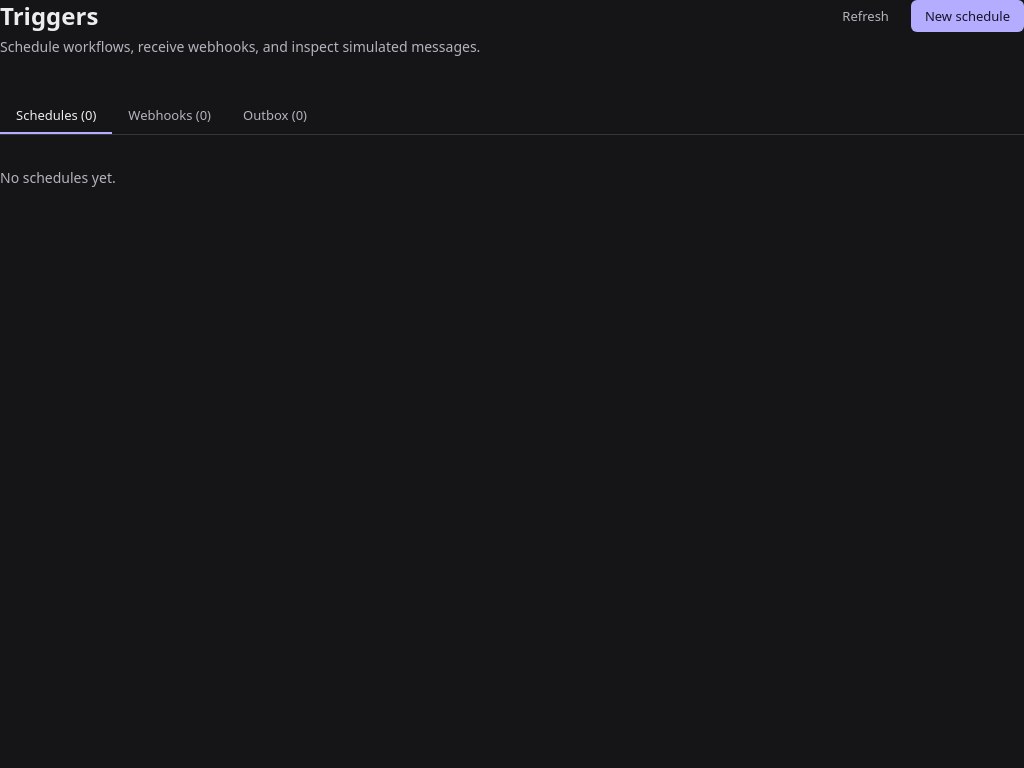
it: B39: workflow picker in the trigger forms › a workspace without workflows says so and cannot submit either form
Click the button with test id "btn-open-create-schedule" at coordinates (967, 16), box [911,0,1023,32]
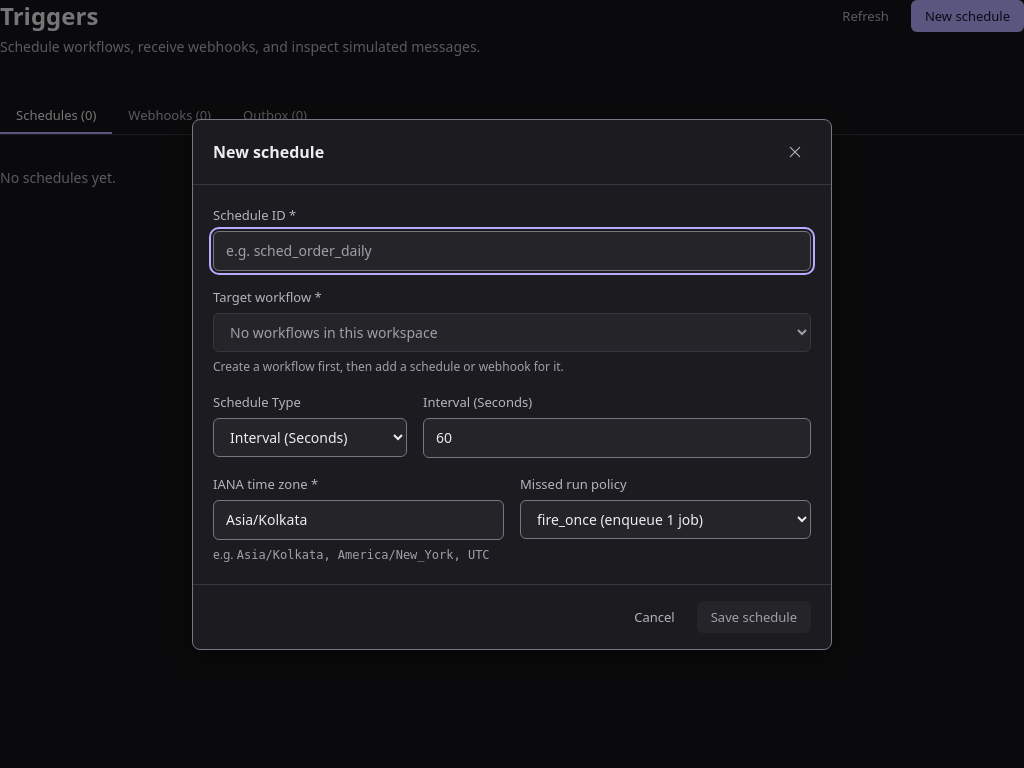
Expected: the text with test id "select-new-schedule-wfid-empty" shows "Create a workflow first", [213,358,564,374]
Expected: the button with test id "btn-submit-create-schedule" is disabled, [697,600,811,632]
Click the button "Cancel" at coordinates (654, 616), box [620,600,689,632]
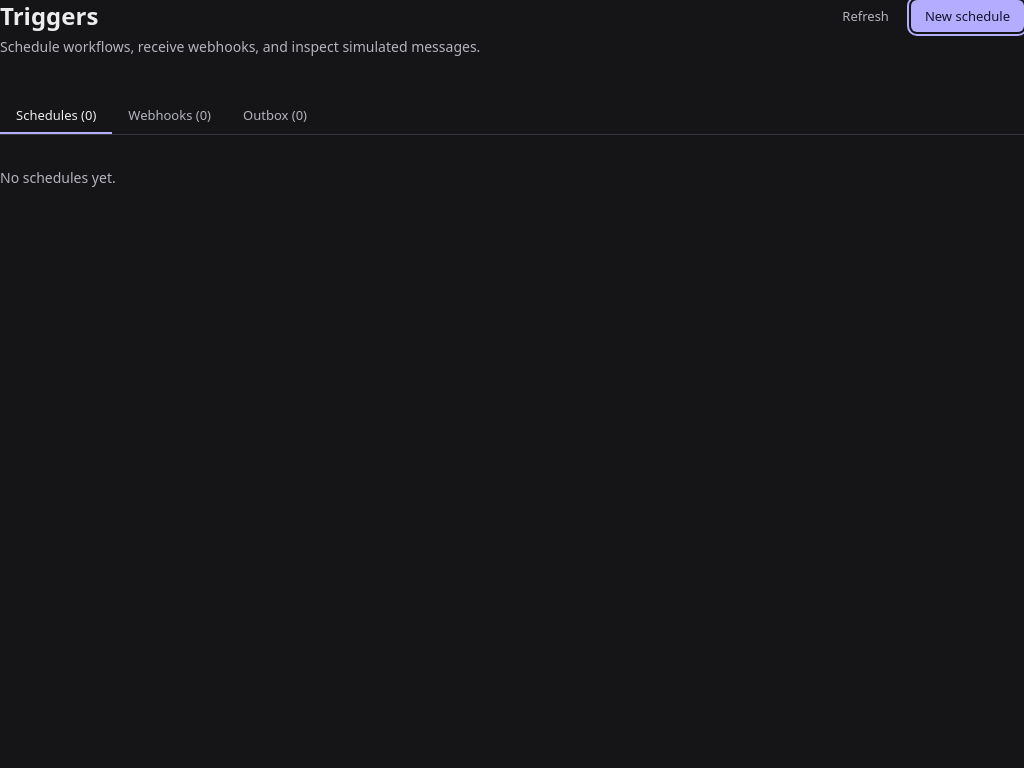
Click the tab with test id "tab-webhooks" at coordinates (170, 116), box [112,98,227,134]
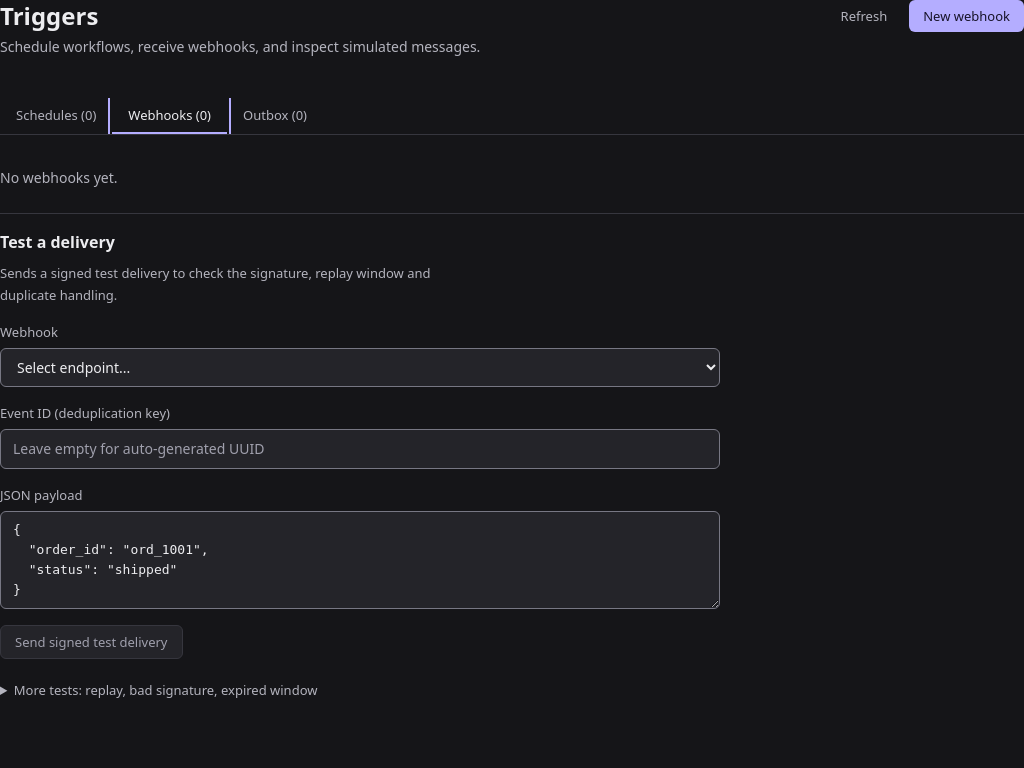
Click the button with test id "btn-open-register-webhook" at coordinates (967, 16), box [909,0,1023,32]
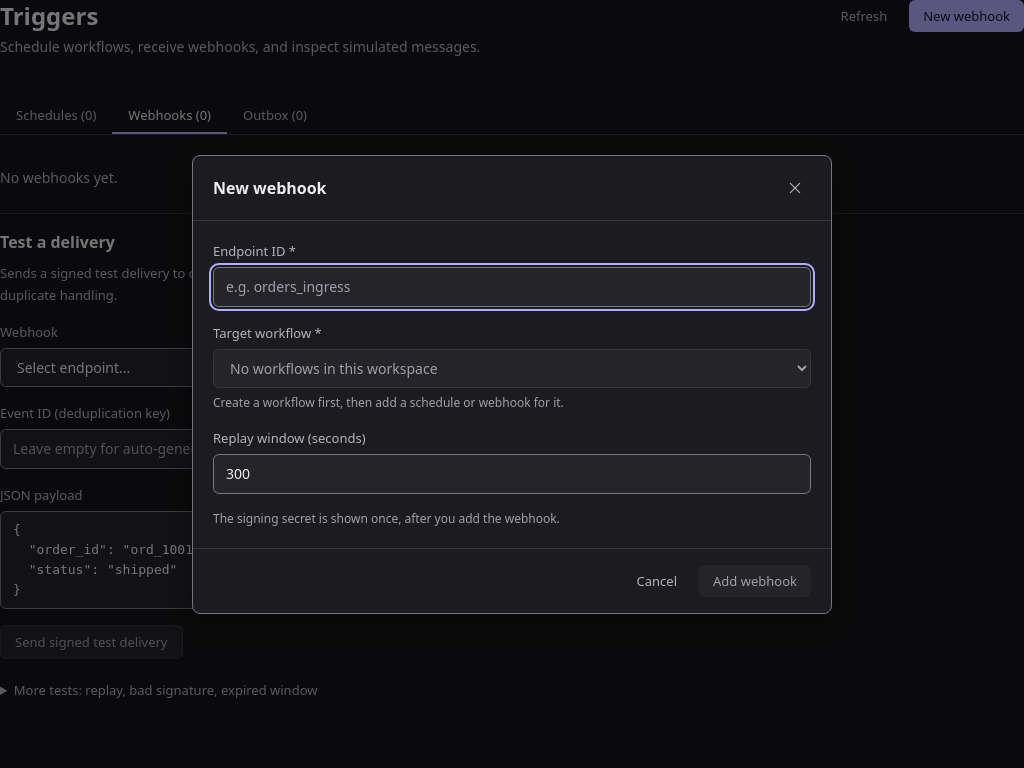
Expected: the button with test id "btn-submit-register-webhook" is disabled, [699,564,811,596]
